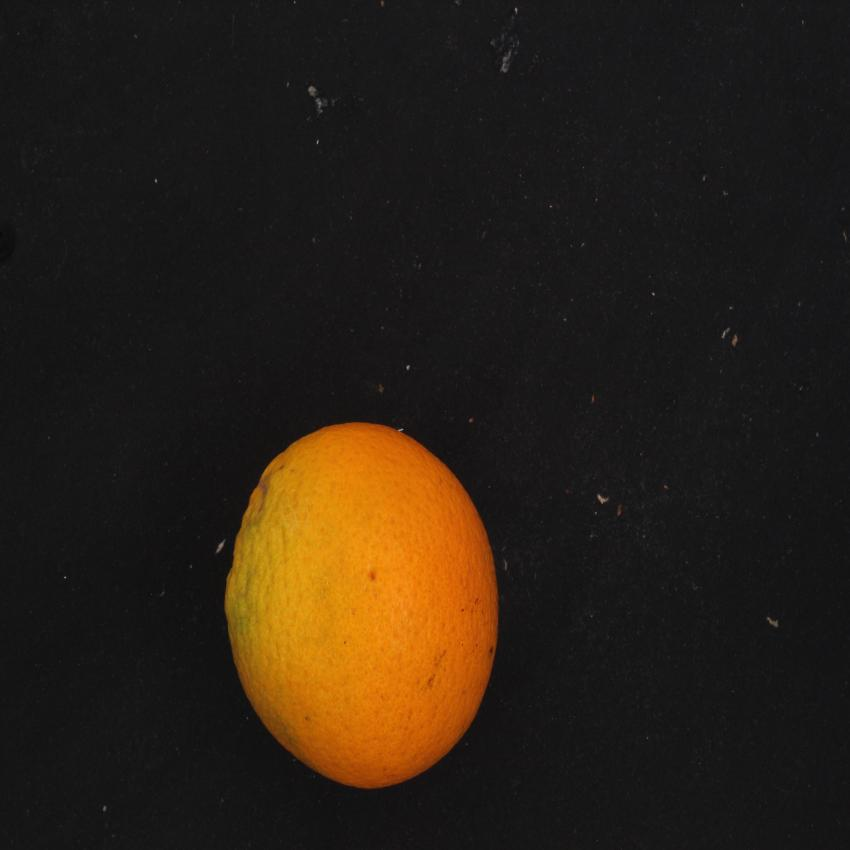Buen estado: (217, 408, 516, 801)
